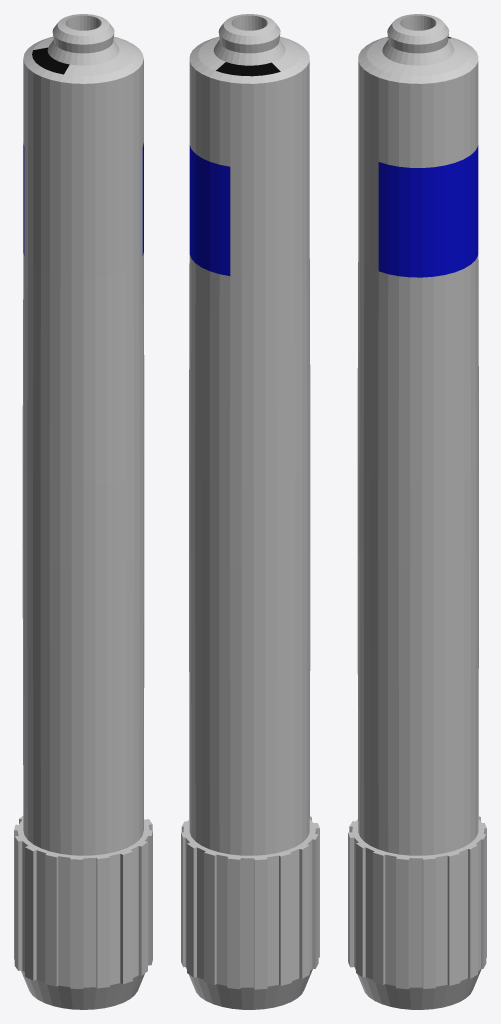
The model's file is pompe1.obj.
The picture shows the model from 3 angles, left to right: view 1: azimuth 90°, elevation 25°; view 2: azimuth 150°, elevation 25°; view 3: azimuth 330°, elevation 25°; orthographic projection.
Parts seen in each view (by area): view 1: Cylinder; view 2: Cylinder; view 3: Cylinder.
Boxes of the visible parts, <box> form: Cylinder: <box>14,14,152,1009</box>; Cylinder: <box>181,14,319,1009</box>; Cylinder: <box>348,14,486,1009</box>.
Bounding box in the file's own units: 0.3855 × 2.96 × 0.3862.
